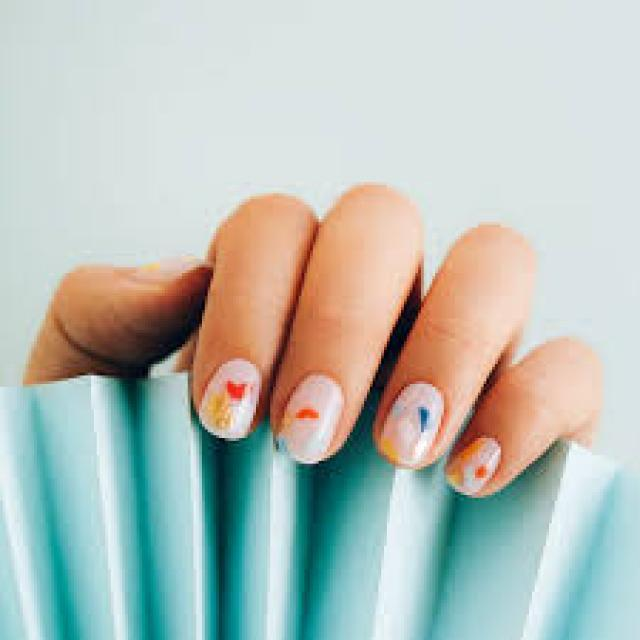Fingernail: (275, 374, 345, 464), (380, 383, 444, 465), (200, 358, 262, 438), (445, 435, 502, 495), (127, 261, 212, 284)
